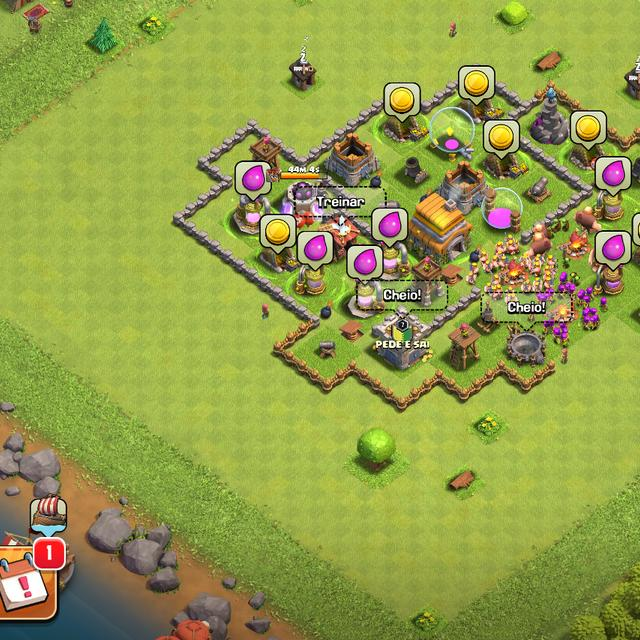Elixir: (236, 161, 273, 203), (594, 230, 631, 272), (346, 244, 383, 284), (596, 156, 631, 198), (372, 208, 408, 248), (298, 231, 332, 272)
coin: (258, 214, 296, 254), (570, 111, 608, 150), (384, 82, 421, 121), (485, 120, 521, 158), (461, 67, 495, 104), (632, 212, 640, 246)
